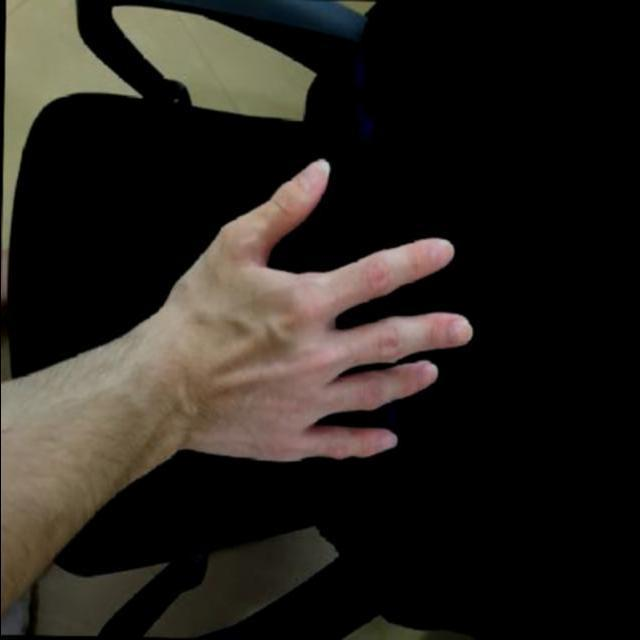hand: (147, 145, 487, 478)
